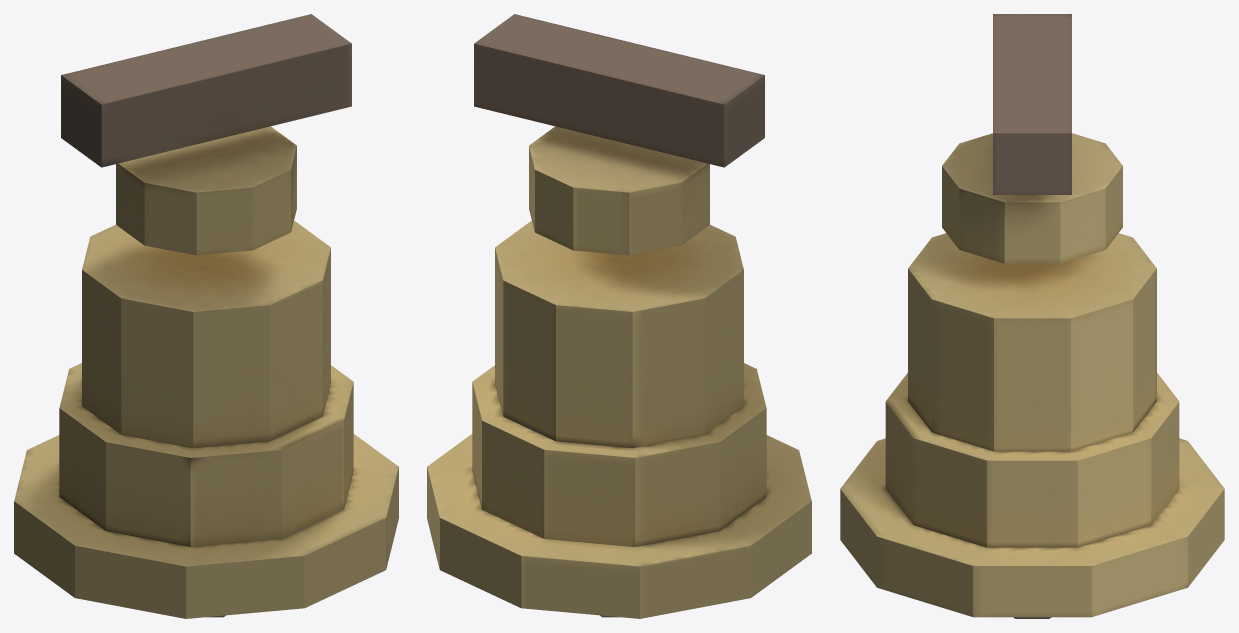
File: bell.glb
3 views of the same model, side by side, from view 1: azimuth 30°, elevation 25°; view 2: azimuth 150°, elevation 25°; view 3: azimuth 270°, elevation 25° (orthographic). The views are drawn at different scales.
Parts seen in each view (by area): view 1: bell; view 2: bell; view 3: bell.
Part boxes in pixels (x1=…): bell: x1=14, y1=14, x2=398, y2=618; bell: x1=427, y1=14, x2=811, y2=618; bell: x1=840, y1=14, x2=1224, y2=618.
Size of the model in its own units: 0.6467 by 1.04 by 0.68.
Materials: 2 (2 with a texture image).
